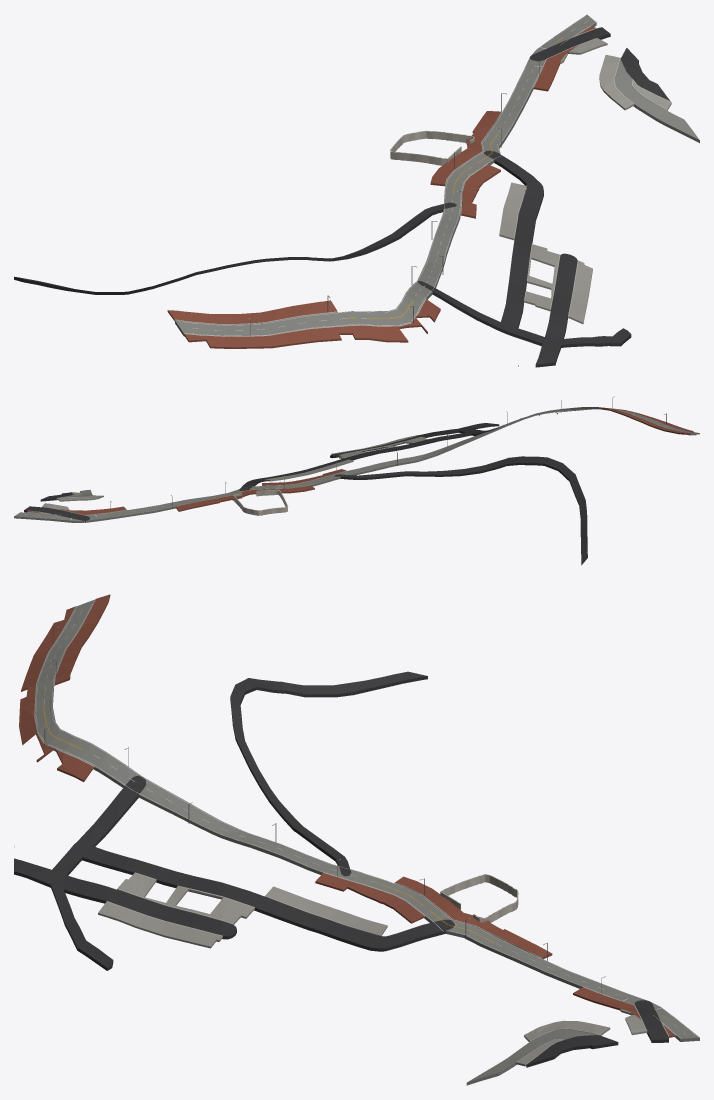
The picture shows the model from 3 angles, top to bottom: view 1: azimuth 30°, elevation 25°; view 2: azimuth 150°, elevation 25°; view 3: azimuth 270°, elevation 25°; orthographic projection. The views are drawn at different scales.
Size of the model in its own units: 294 by 55.72 by 239.
